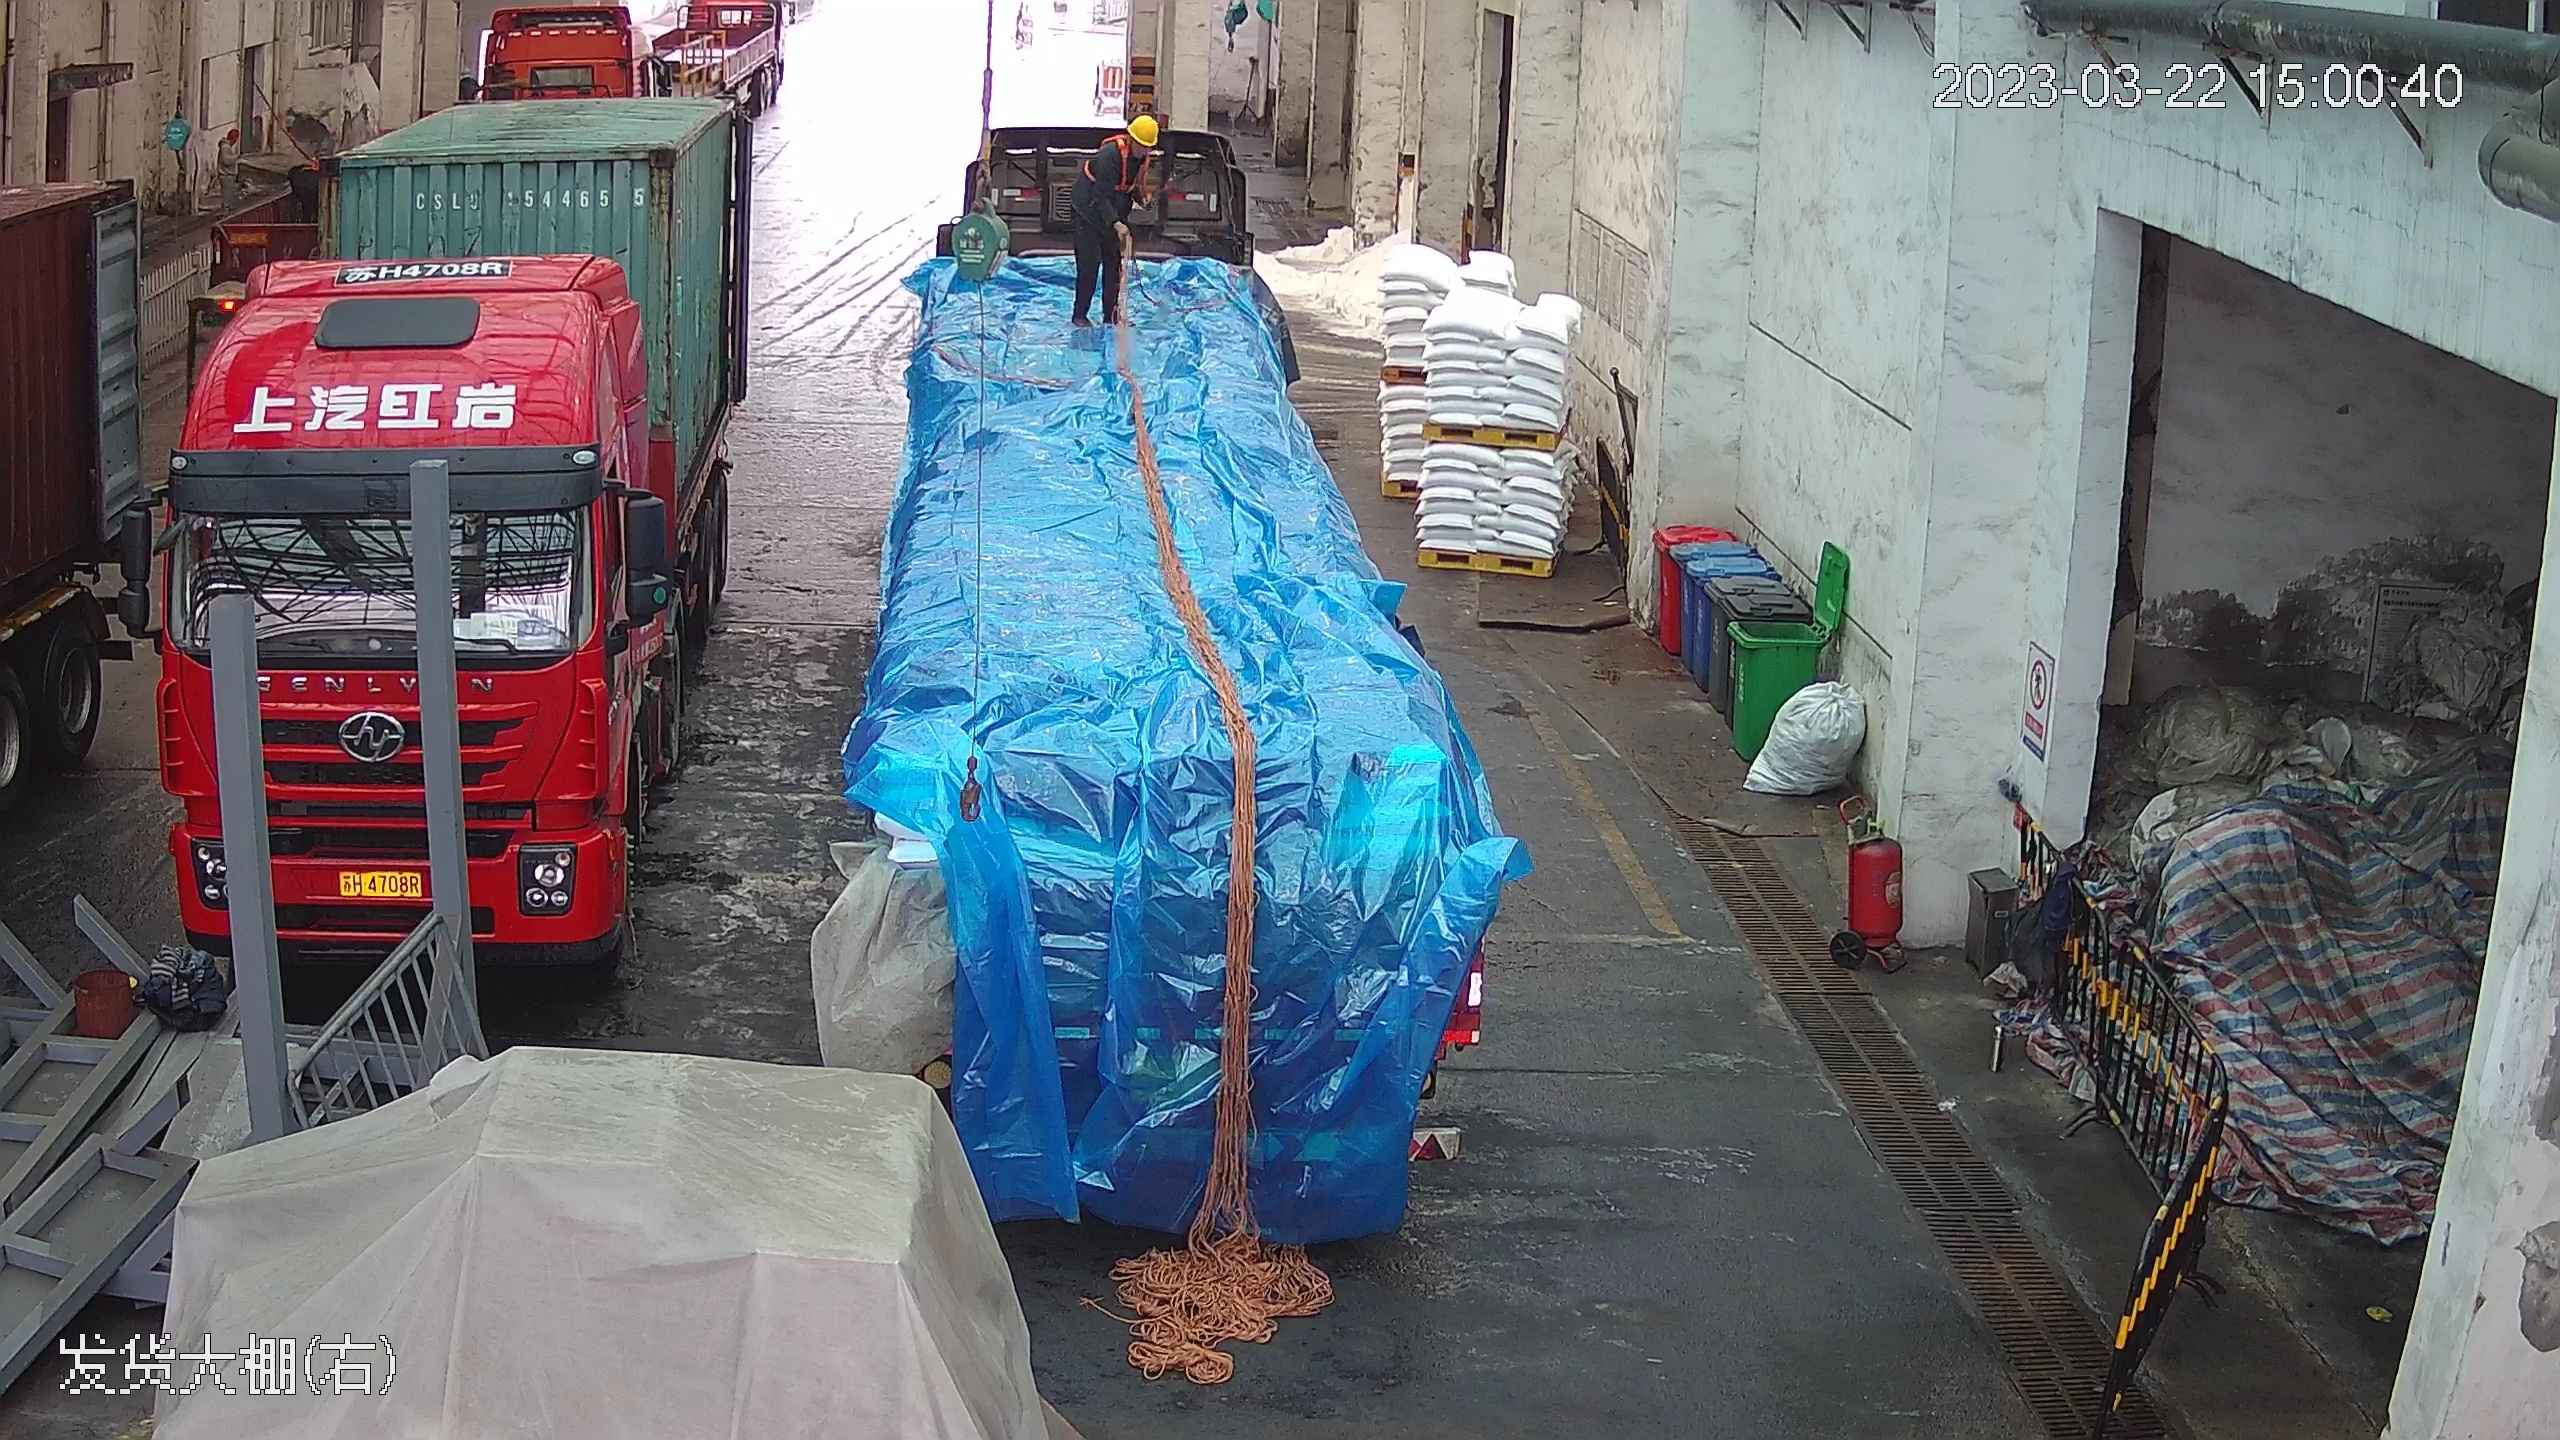belt: (1096, 130, 1151, 194)
head: (1081, 110, 1162, 179)
helmet: (1126, 110, 1164, 143)
people: (1059, 106, 1156, 328)
truck: (835, 26, 1568, 1340), (148, 8, 762, 964)
